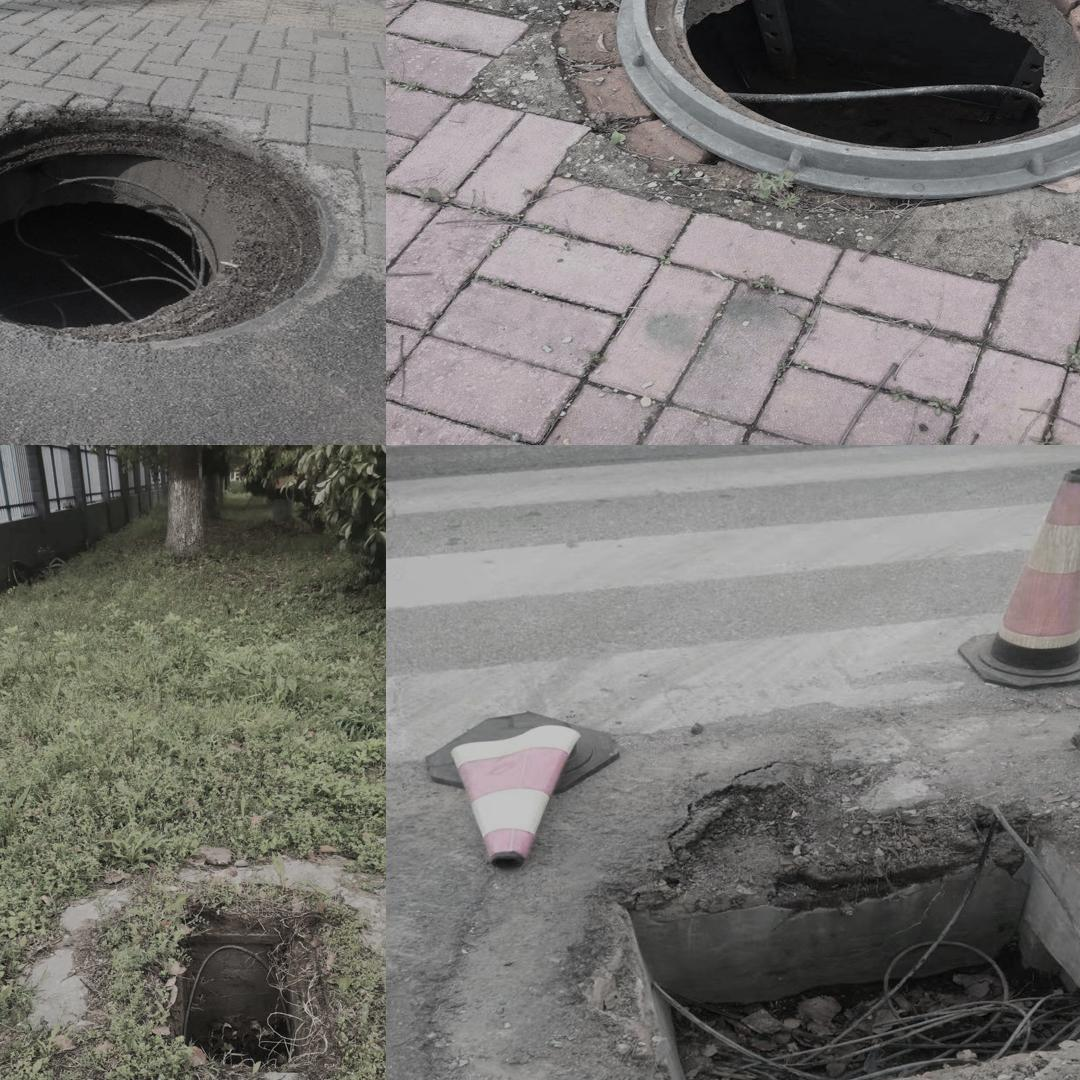lose: (614, 815, 1080, 1080), (616, 0, 1080, 202), (0, 113, 339, 345), (162, 918, 343, 1077)
